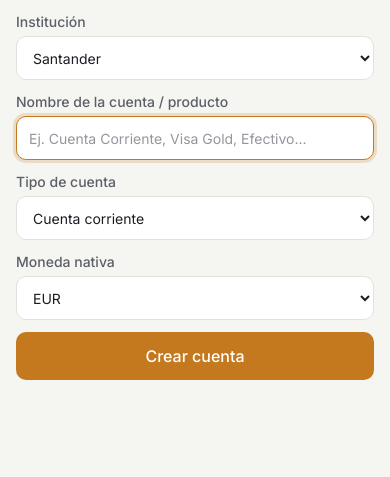
Test: AccountForm › muestra campo de límite de crédito cuando el tipo es credit_card
Check: the field labelled "límite de crédito" is not shown
Select "Tarjeta de crédito" in the dropdown labelled "Tipo de cuenta" at (195, 218), box [16,196,374,240]
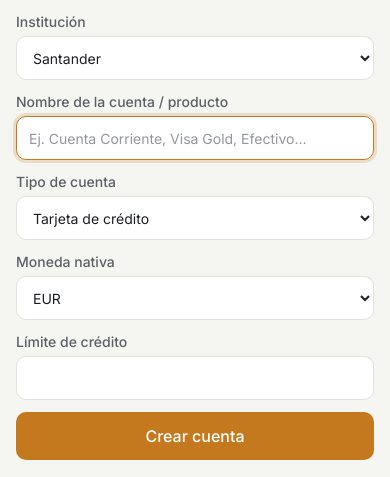
Check: the number field labelled "Límite de crédito" is shown, box [16,356,374,400]
